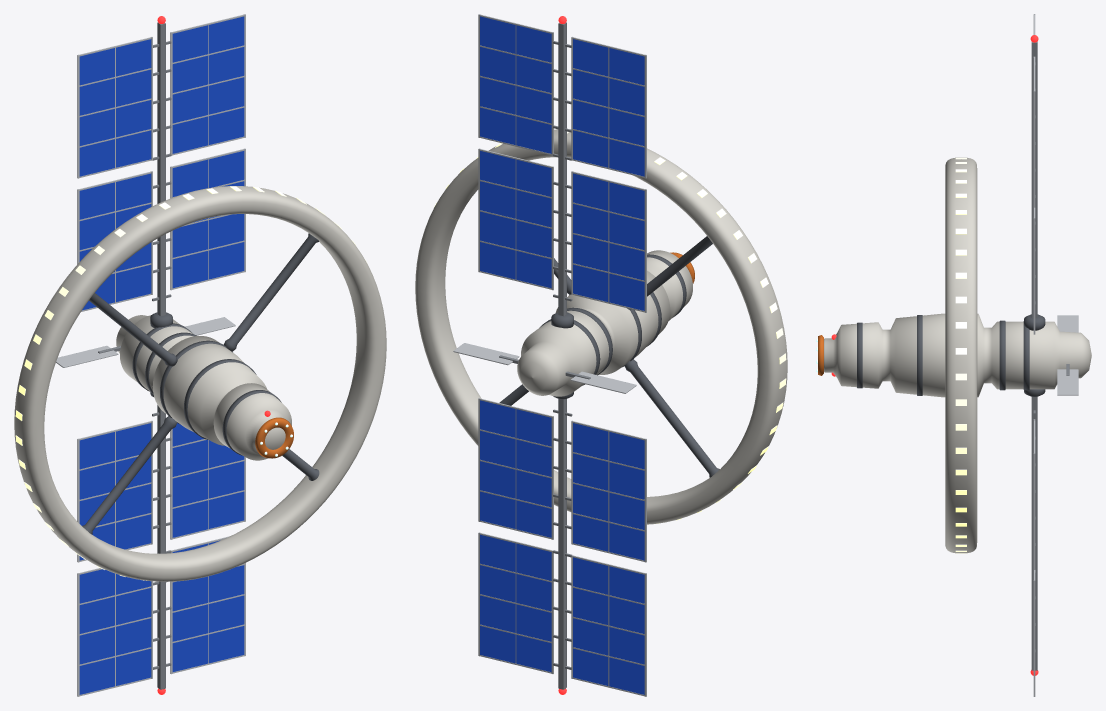
The model's file is station.glb.
The picture shows the model from 3 angles, left to right: view 1: azimuth 30°, elevation 25°; view 2: azimuth 150°, elevation 25°; view 3: azimuth 270°, elevation 25°; orthographic projection. The views are drawn at different scales.
Parts seen in each view (by area): view 1: ring_hull_white, solar_top_solar_cell, solar_bottom_solar_cell, hub_hull_white, solar_top_solar_frame, solar_bottom_solar_frame, ring_hull_band, solar_top_truss_grey, solar_bottom_truss_grey, hub_hull_band, ring_window_warm, hub_solar_frame (+1 smaller); view 2: solar_bottom_solar_cell, solar_top_solar_cell, ring_hull_white, hub_hull_white, solar_bottom_solar_frame, solar_top_solar_frame, solar_top_truss_grey, solar_bottom_truss_grey, ring_hull_band, hub_hull_band, hub_solar_frame, ring_window_warm; view 3: hub_hull_white, ring_hull_white, hub_hull_band, solar_top_truss_grey, solar_bottom_truss_grey, ring_window_warm, hub_solar_frame, solar_top_solar_frame, solar_bottom_solar_frame.
Boxes of the visible parts, x1,y1,x2,y2 form: ring_hull_white: (14,186,386,581); solar_top_solar_cell: (79,16,244,310); solar_bottom_solar_cell: (79,423,244,694); hub_hull_white: (116,315,291,460); solar_top_solar_frame: (77,14,245,311); solar_bottom_solar_frame: (77,420,245,696); ring_hull_band: (82,233,319,534); solar_top_truss_grey: (152,22,171,316); solar_bottom_truss_grey: (152,405,171,689); hub_hull_band: (132,323,281,455); ring_window_warm: (15,186,367,580); hub_solar_frame: (56,317,235,367); solar_bottom_solar_cell: (480,400,644,694); solar_top_solar_cell: (480,16,644,310); ring_hull_white: (415,129,787,524); hub_hull_white: (517,250,692,396); solar_bottom_solar_frame: (478,398,646,696); solar_top_solar_frame: (478,14,646,312); solar_top_truss_grey: (553,22,572,316); solar_bottom_truss_grey: (553,399,572,689); ring_hull_band: (499,236,719,477); hub_hull_band: (539,254,686,385); hub_solar_frame: (453,343,636,393); ring_window_warm: (434,131,786,523); hub_hull_white: (824,313,1091,397); ring_hull_white: (945,157,977,553); hub_hull_band: (857,315,1029,395); solar_top_truss_grey: (1031,41,1037,317); solar_bottom_truss_grey: (1031,396,1037,670); ring_window_warm: (955,157,966,553); hub_solar_frame: (1057,315,1078,395); solar_top_solar_frame: (1033,14,1035,334); solar_bottom_solar_frame: (1033,419,1035,696).
Size of the model in its own units: 59.46 by 106 by 41.37.
